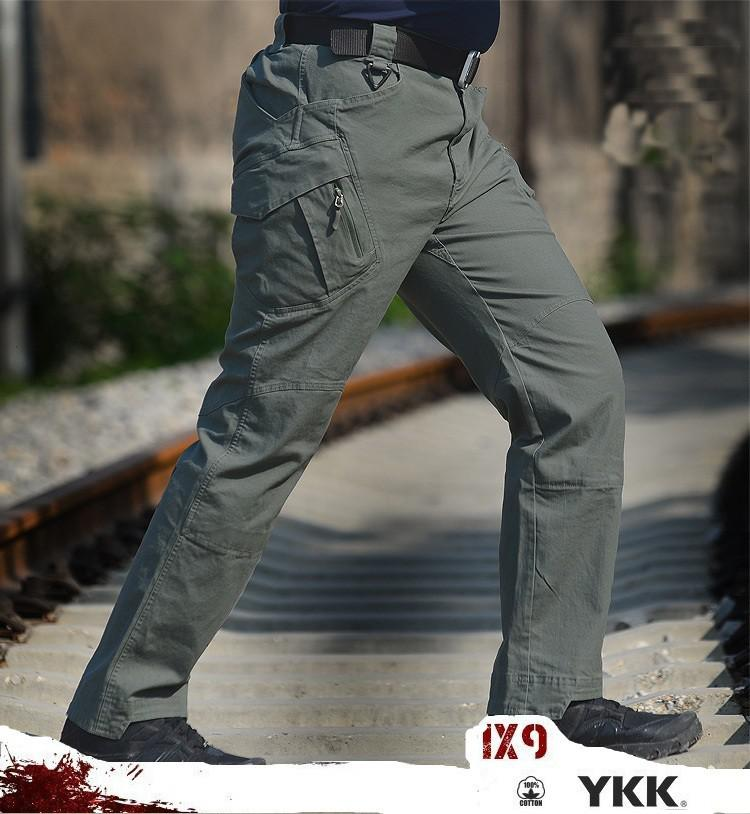pants: (87, 41, 605, 726)
